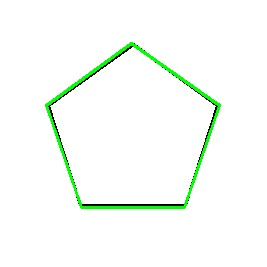line_segment: (46, 43, 220, 208)
